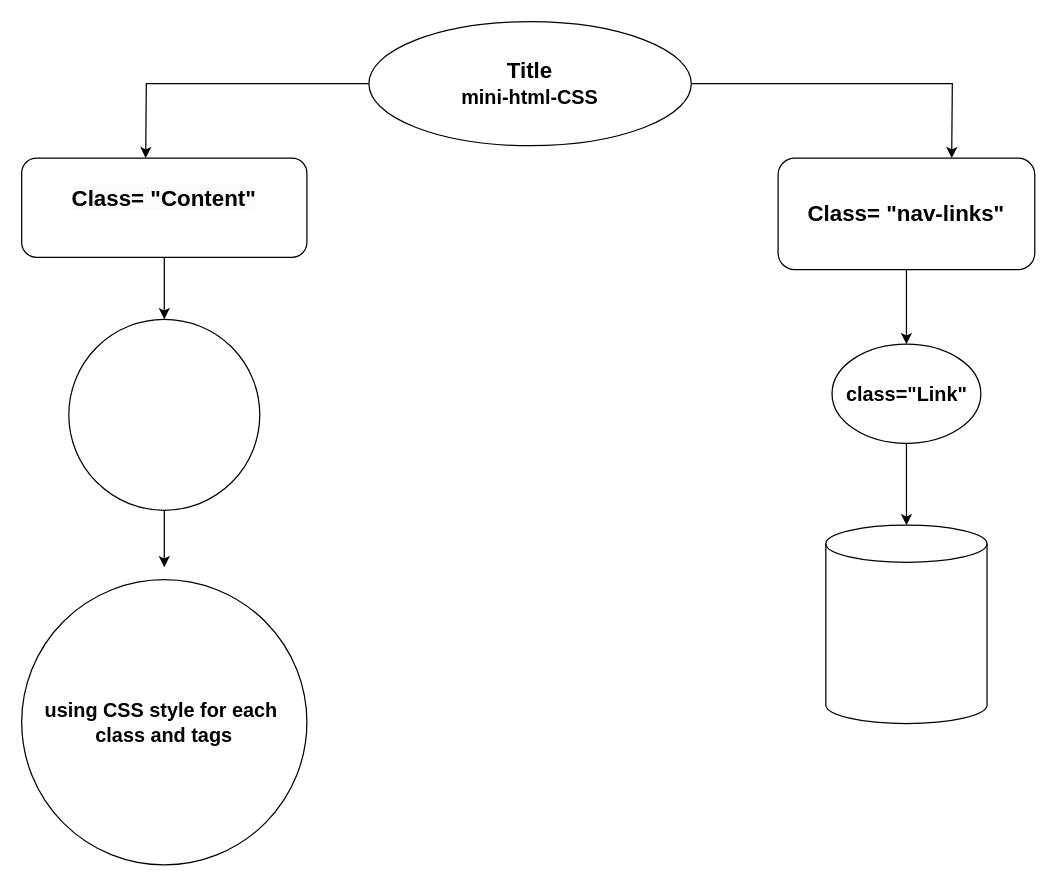
The diagram is 1056 pixels wide and 887 high, and some of its shapes have lost their labels. Here are the shapes that lost their labels. From the top down, the centre of each, then its label:
the point at 164,414: class="head"
the point at 906,624: < a href > using Hyperlinks to external html pages
